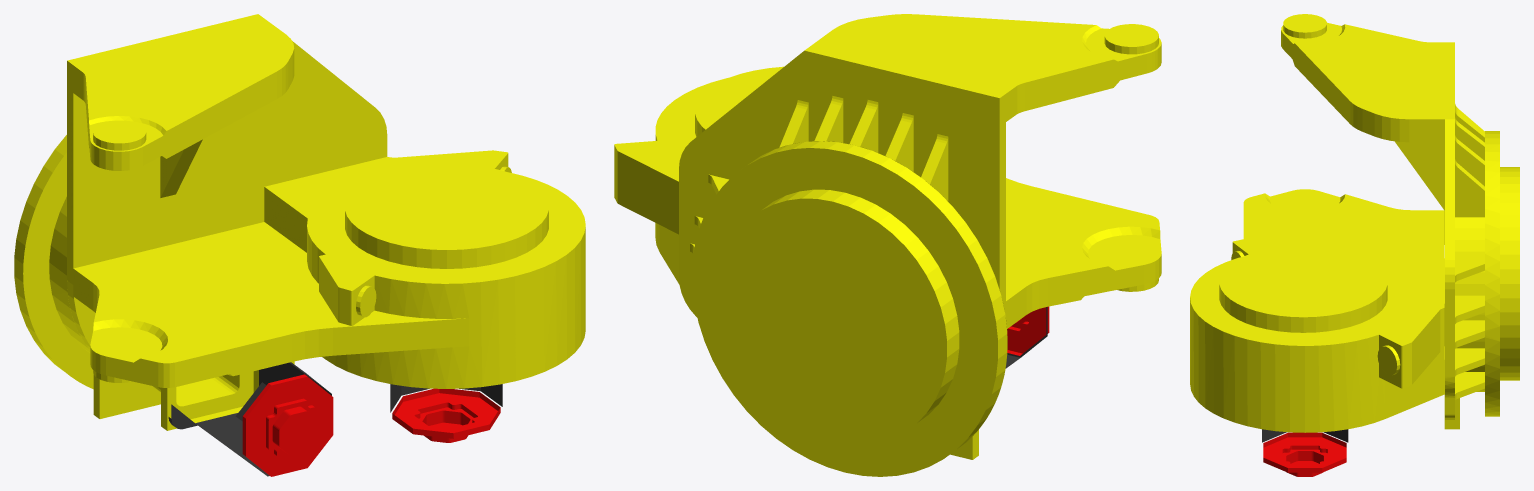
3 views of the same model, side by side, from view 1: azimuth 30°, elevation 25°; view 2: azimuth 150°, elevation 25°; view 3: azimuth 270°, elevation 25° (orthographic). The views are drawn at different scales.
Visible parts, largest first — view 1: node; view 2: node; view 3: node.
Part boxes in pixels (x1,y1,x2,y2): node: (14, 14, 585, 476); node: (614, 14, 1161, 476); node: (1190, 14, 1519, 476).
Bounding box in the file's own units: 899 × 691 × 656.
